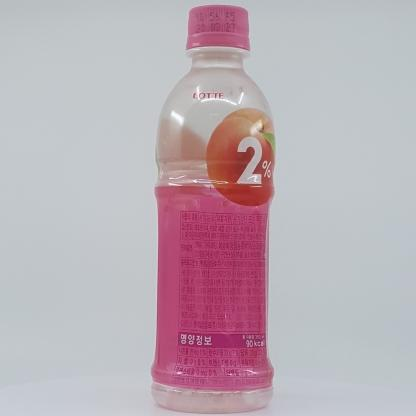--2_---350ML: (150, 4, 276, 414)
